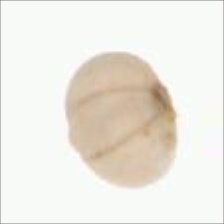L5: (62, 86, 161, 158), (59, 109, 91, 163), (149, 75, 182, 126)
L6: (57, 46, 181, 190)
